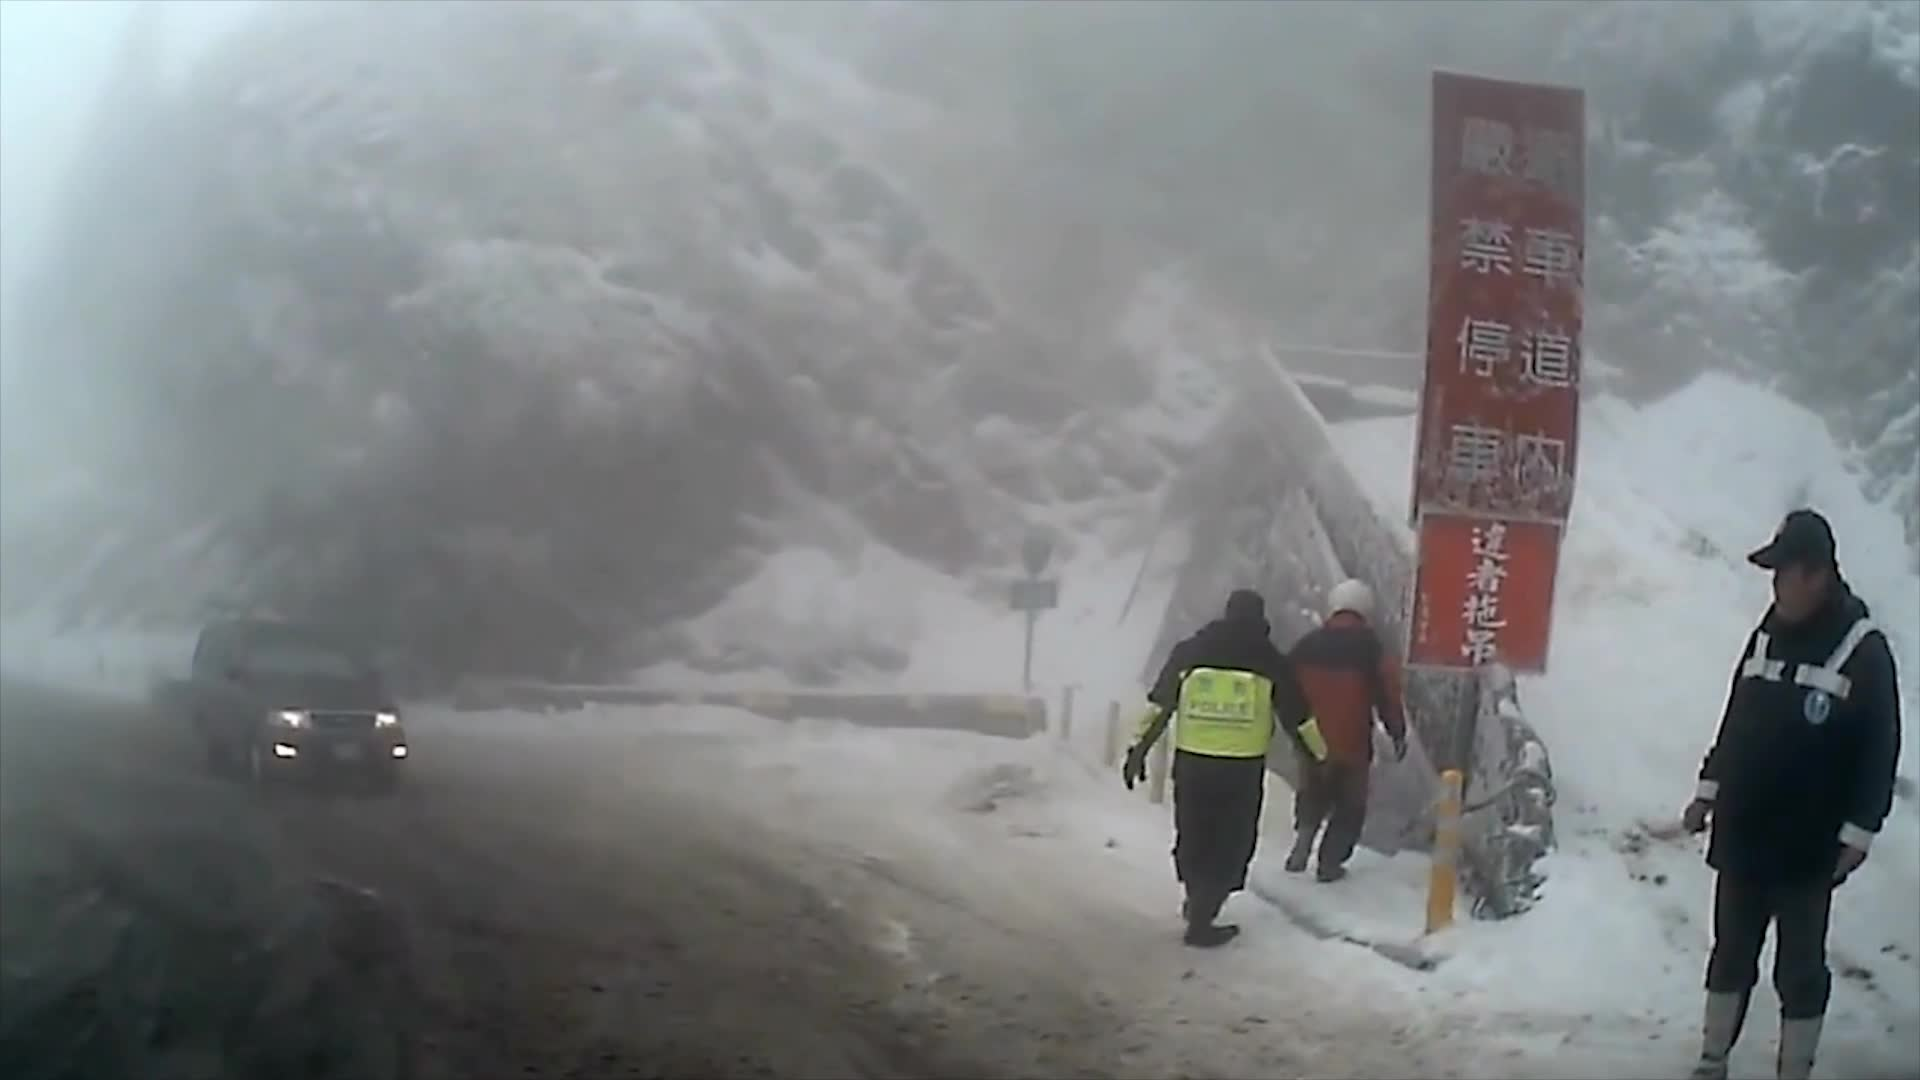pedestrian: (1682, 510, 1903, 1080), (1125, 591, 1328, 947), (1285, 579, 1409, 880)
vehicle: (189, 618, 412, 795)
